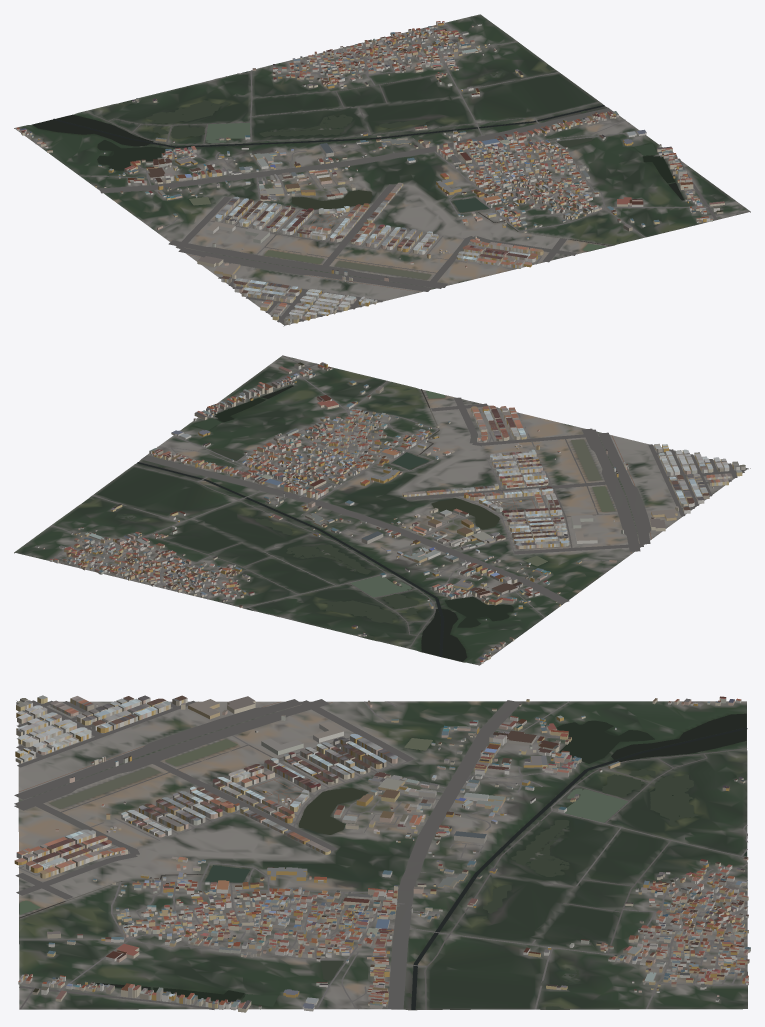
The picture shows the model from 3 angles, top to bottom: view 1: azimuth 30°, elevation 25°; view 2: azimuth 150°, elevation 25°; view 3: azimuth 270°, elevation 25°; orthographic projection. The views are drawn at different scales.
Parts seen in each view (by area): view 1: ground, buildings, roads, water; view 2: ground, buildings, roads, water; view 3: ground, buildings, roads, water.
Part boxes in pixels (box(x1,y1,x2,y2)): ground: box(14, 14, 750, 325); buildings: box(16, 21, 724, 325); roads: box(34, 22, 750, 326); water: box(32, 64, 683, 279); ground: box(14, 355, 748, 665); buildings: box(35, 362, 745, 663); roads: box(49, 355, 750, 652); water: box(82, 385, 615, 661); ground: box(18, 701, 747, 1010); buildings: box(14, 695, 750, 1012); roads: box(14, 699, 747, 1009); water: box(19, 713, 747, 1009).
Size of the model in its own units: 1425 by 26.46 by 1418.
